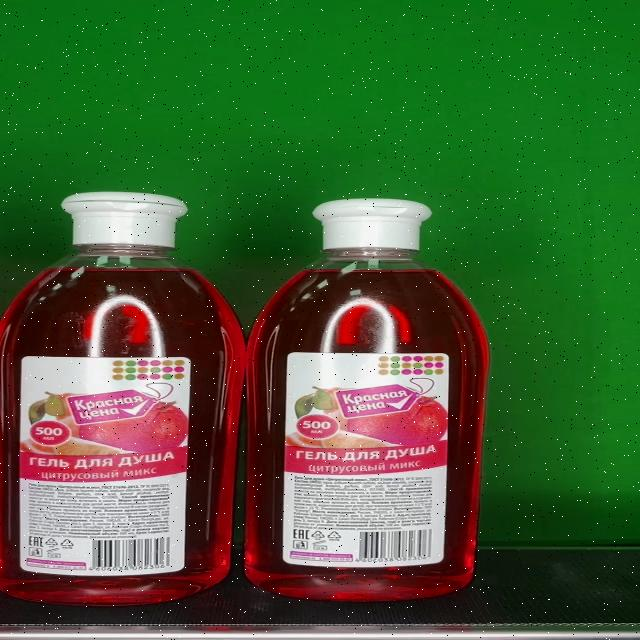Bottle: (0, 190, 248, 606), (244, 198, 489, 600)
Cap: (68, 190, 193, 246), (316, 198, 438, 251)
